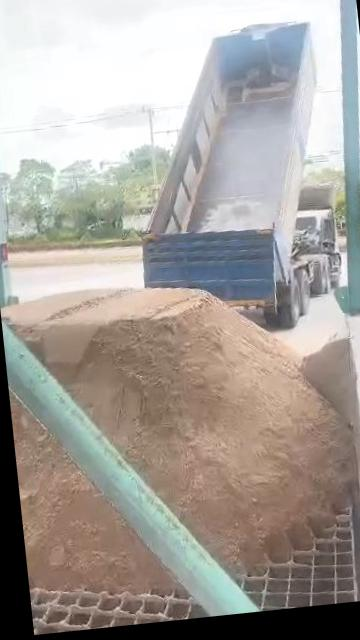sand: (3, 290, 354, 570), (11, 401, 171, 591), (302, 333, 357, 426)
